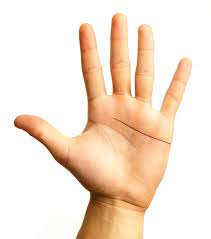palm: (13, 12, 192, 210)
